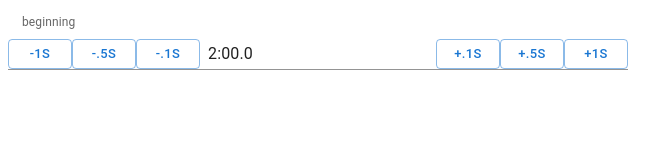
TimeInput › supports tweaking the time by set intervals
What coordinates should you click on to do the following:
click the button "-1s"
I would click on:
 (40, 54)
Its box is [8,39,72,69].
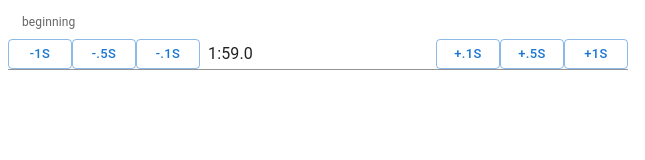
Check: the field holds "1:59.0", box [208,38,428,70]
What coordinates should you click on to do the following:
click the button "+.5s"
I would click on:
 (532, 54)
Its box is [500,39,564,69].
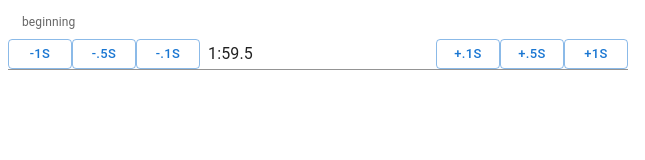
Check: the field holds "1:59.5", box [208,38,428,70]
